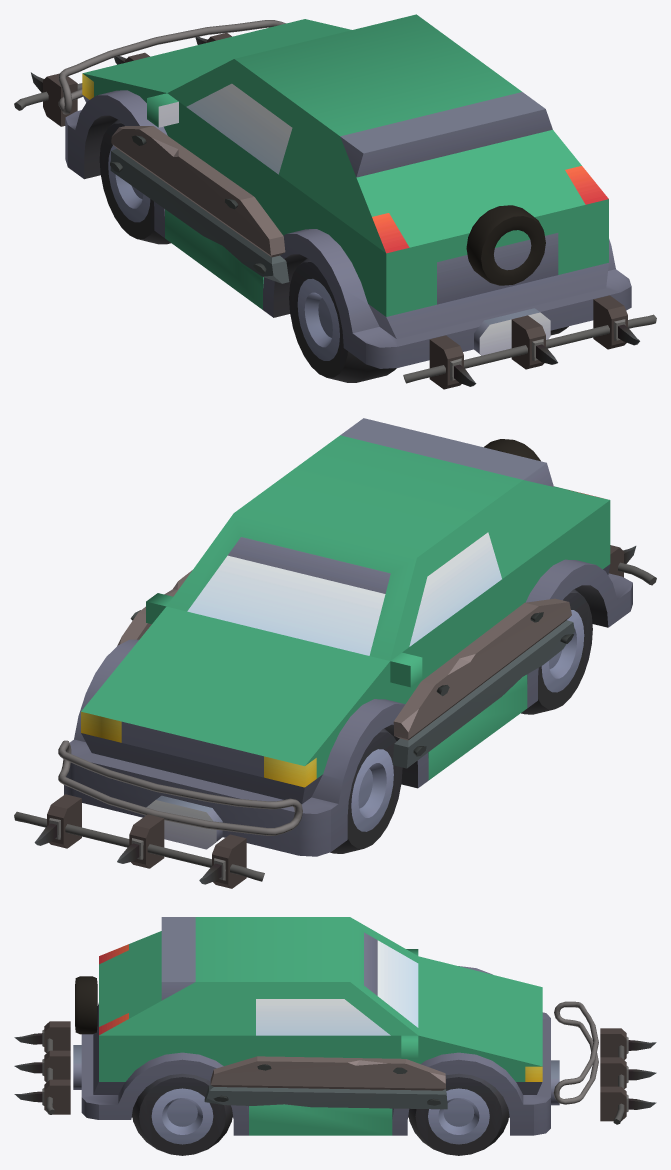
Rendered from car_milo.glb.
3 renders of one model, top to bottom at view 1: azimuth 30°, elevation 25°; view 2: azimuth 150°, elevation 25°; view 3: azimuth 270°, elevation 25°, orthographic. The views are drawn at different scales.
Parts seen in each view (by area): view 1: body_mesh, armor_1_mesh, armor_2_mesh, armor_3_mesh, wheel_RL_mesh, wheel_FL_mesh; view 2: body_mesh, armor_1_mesh, armor_3_mesh, armor_2_mesh, wheel_FL_mesh, wheel_RL_mesh; view 3: body_mesh, armor_1_mesh, wheel_RR_mesh, wheel_FR_mesh, armor_2_mesh, armor_3_mesh.
Boxes of the visible parts, <box> form: body_mesh: <box>65,14,631,368</box>; armor_1_mesh: <box>110,126,289,283</box>; armor_2_mesh: <box>58,20,656,389</box>; armor_3_mesh: <box>14,33,545,285</box>; wheel_RL_mesh: <box>289,258,396,382</box>; wheel_FL_mesh: <box>99,119,170,244</box>; body_mesh: <box>64,418,632,856</box>; armor_1_mesh: <box>117,570,574,768</box>; armor_3_mesh: <box>14,439,540,888</box>; armor_2_mesh: <box>58,545,656,835</box>; wheel_FL_mesh: <box>330,728,402,853</box>; wheel_RL_mesh: <box>521,589,592,714</box>; body_mesh: <box>73,917,559,1135</box>; armor_1_mesh: <box>204,1056,447,1109</box>; wheel_RR_mesh: <box>132,1073,232,1155</box>; wheel_FR_mesh: <box>408,1073,509,1155</box>; armor_2_mesh: <box>14,1001,598,1114</box>; armor_3_mesh: <box>75,976,656,1124</box>.
Size of the model in its own units: 2.06 by 1.47 by 5.02.
3 materials, 2 textured.
